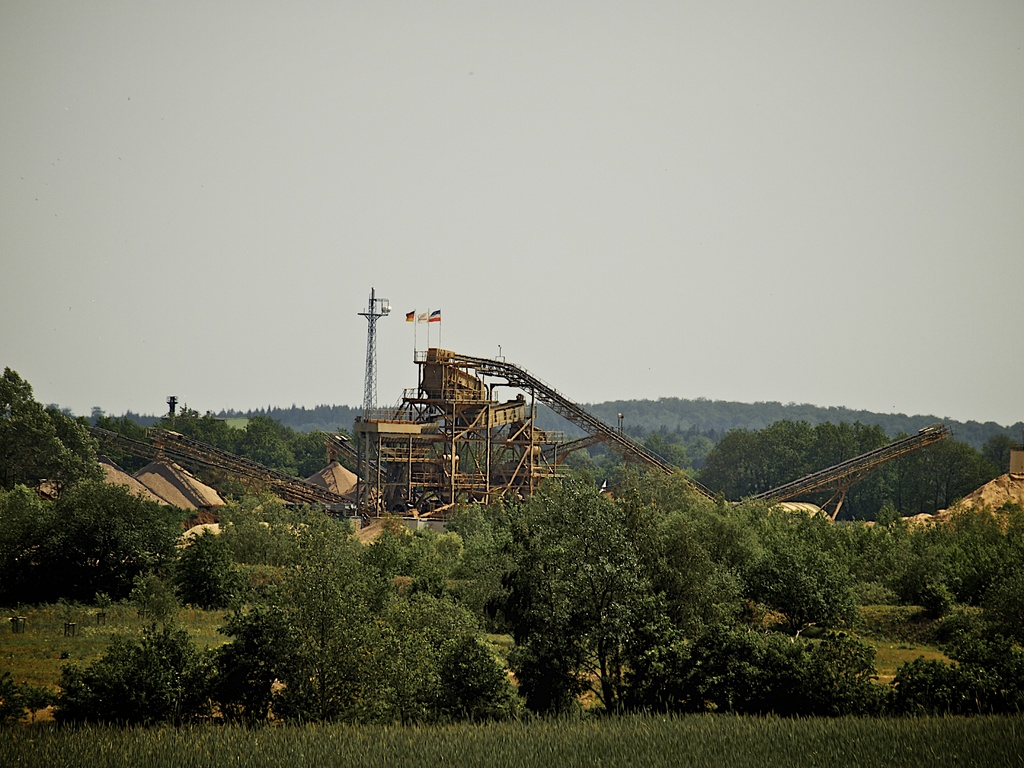Tree: (0, 403, 1023, 726), (0, 362, 96, 492)
